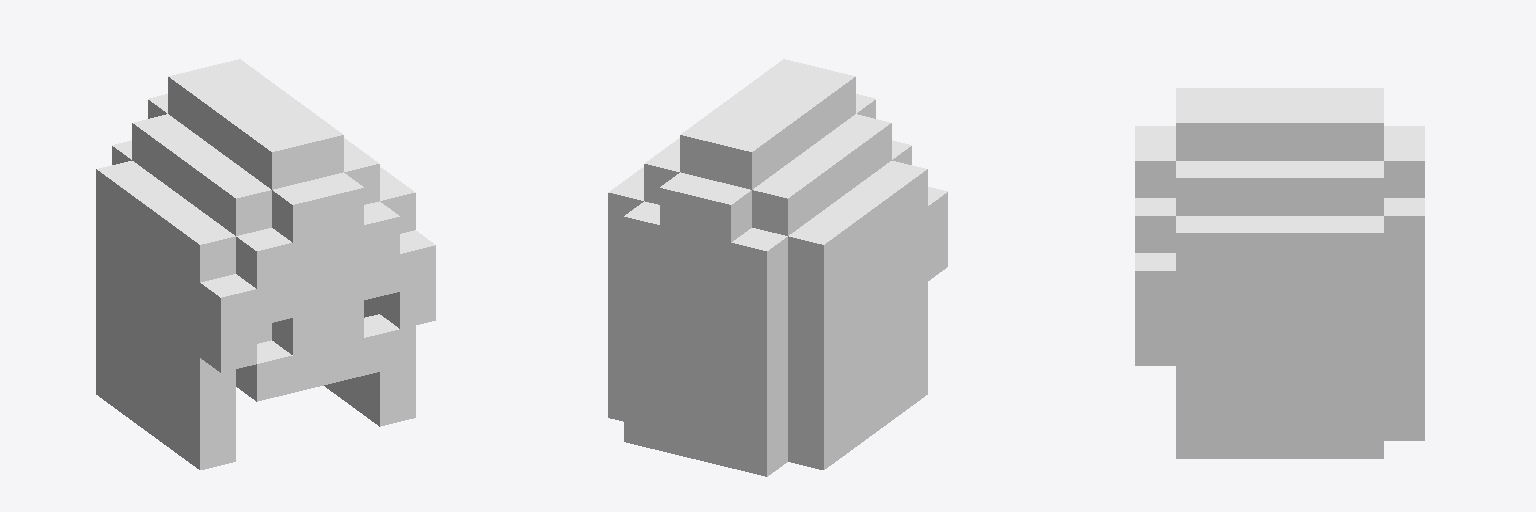
Rendered from char-207-helm_med_3a_ja.obj.
3 views of the same model, side by side, from view 1: azimuth 30°, elevation 25°; view 2: azimuth 150°, elevation 25°; view 3: azimuth 270°, elevation 25° (orthographic).
Visible parts, largest first — view 1: helm_med_3a_ja; view 2: helm_med_3a_ja; view 3: helm_med_3a_ja.
Part boxes in pixels (left/top/right/bottom): helm_med_3a_ja: left=96, top=59, right=435, bottom=469; helm_med_3a_ja: left=608, top=59, right=947, bottom=476; helm_med_3a_ja: left=1135, top=88, right=1424, bottom=458.
Bounding box in the file's own units: 0.6 × 0.8 × 0.7.